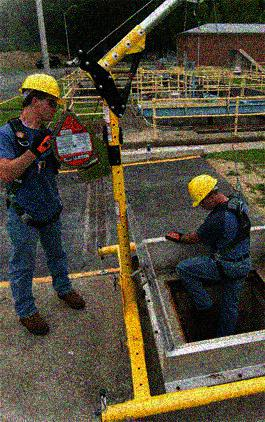helmet: (18, 72, 68, 121), (184, 172, 222, 213)
